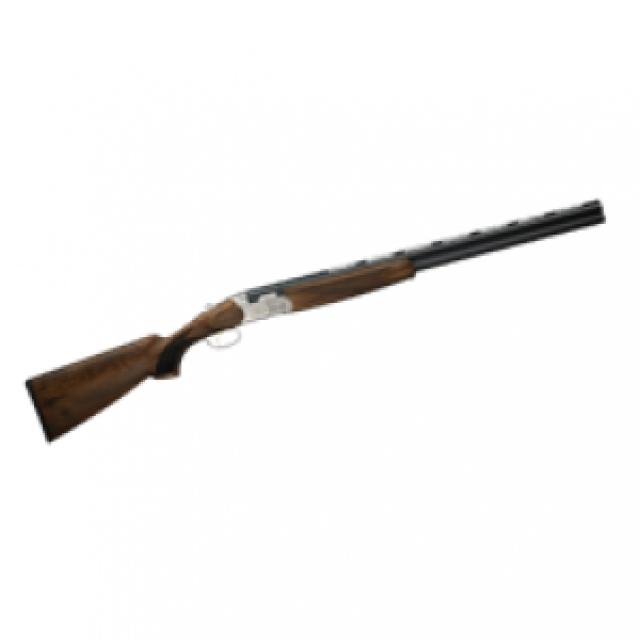rifle: (29, 197, 619, 445)
